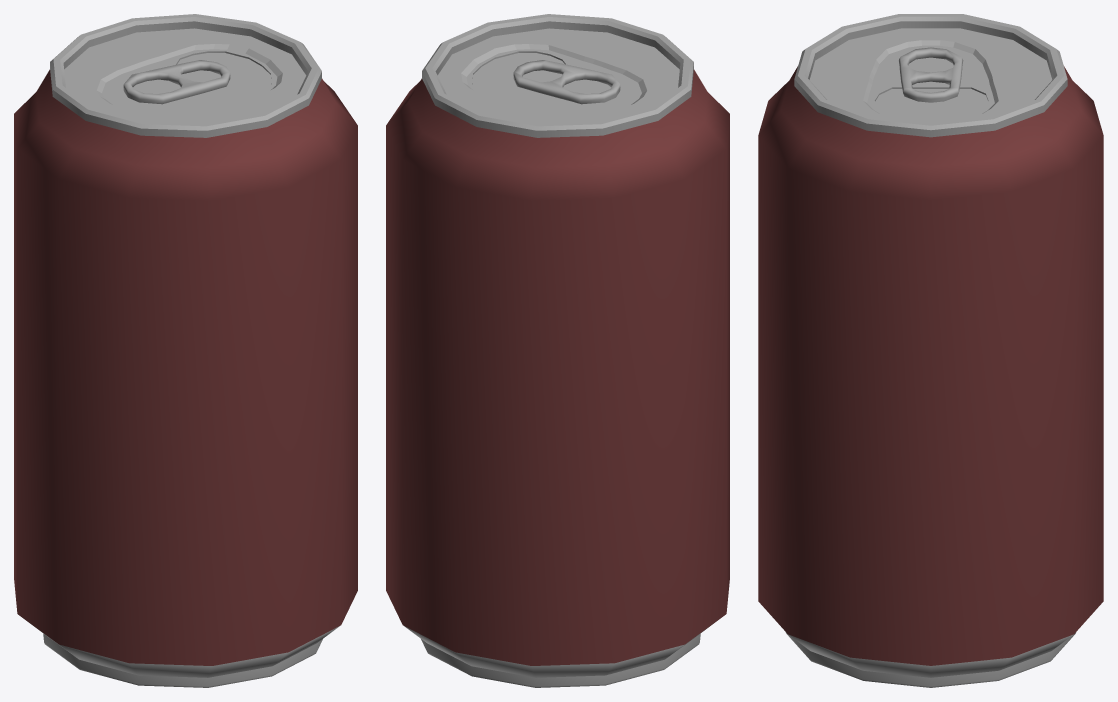
Rendered from fixed_mesh.fbx.
3 renders of one model, left to right at view 1: azimuth 30°, elevation 25°; view 2: azimuth 150°, elevation 25°; view 3: azimuth 270°, elevation 25°, orthographic.
Parts seen in each view (by area): view 1: Can_mesh; view 2: Can_mesh; view 3: Can_mesh.
Boxes of the visible parts, left/top/right/bottom form: Can_mesh: left=14, top=14, right=357, bottom=687; Can_mesh: left=386, top=14, right=729, bottom=687; Can_mesh: left=758, top=14, right=1103, bottom=687.
Size of the model in its own units: 3.16 by 5.67 by 3.18.
